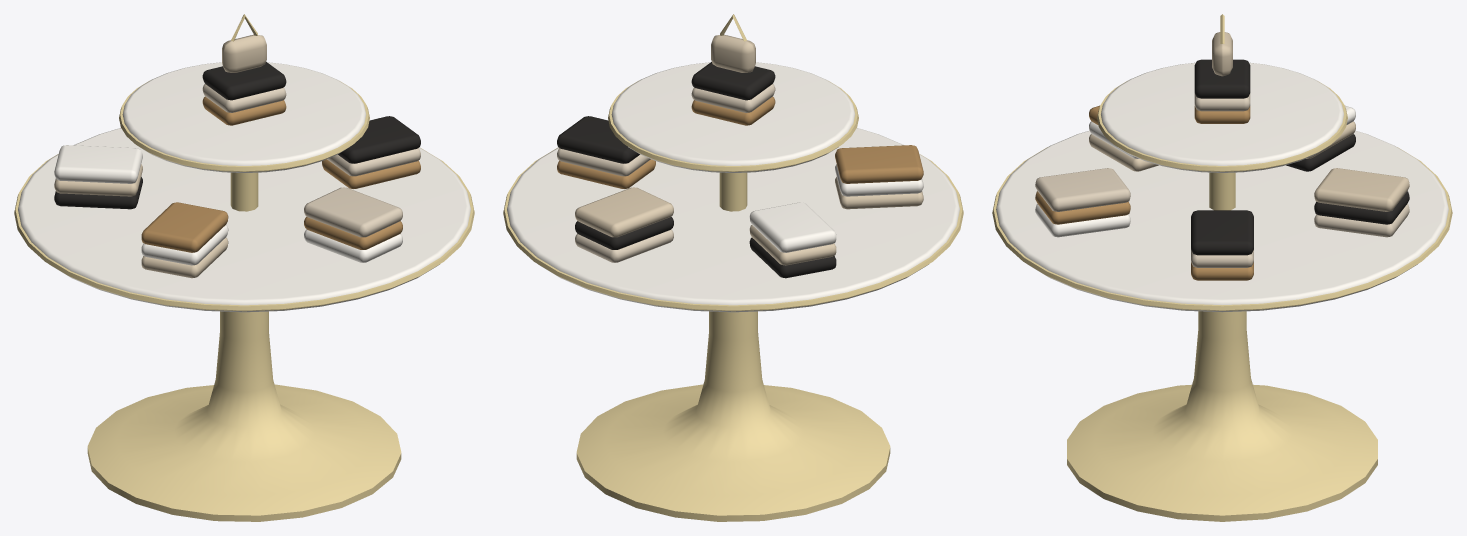
File: table_display_round.glb
3 renders of one model, left to right at view 1: azimuth 30°, elevation 25°; view 2: azimuth 150°, elevation 25°; view 3: azimuth 270°, elevation 25°, orthographic.
Visible parts, largest first — view 1: table_display_round; view 2: table_display_round; view 3: table_display_round.
Part boxes in pixels (<box>): table_display_round: <box>14,14,474,521</box>; table_display_round: <box>503,14,963,521</box>; table_display_round: <box>992,14,1452,521</box>.
Bounding box in the file's own units: 1.32 × 1.41 × 1.32.
